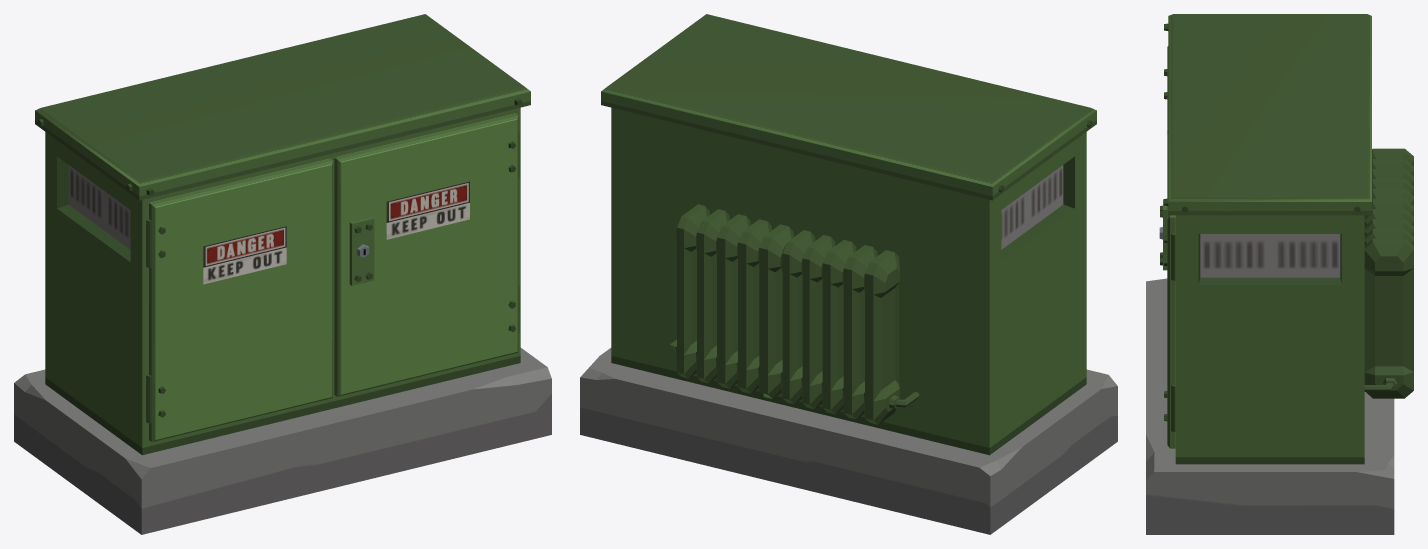
File: SM_Prop_PowerBox_01.fbx
3 views of the same model, side by side, from view 1: azimuth 30°, elevation 25°; view 2: azimuth 150°, elevation 25°; view 3: azimuth 270°, elevation 25° (orthographic). The views are drawn at different scales.
Parts seen in each view (by area): view 1: SM_Prop_Powerbox_01; view 2: SM_Prop_Powerbox_01; view 3: SM_Prop_Powerbox_01.
Part boxes in pixels (bbox=[...]): SM_Prop_Powerbox_01: bbox=[14, 14, 551, 534]; SM_Prop_Powerbox_01: bbox=[580, 14, 1117, 534]; SM_Prop_Powerbox_01: bbox=[1146, 14, 1413, 534].
Size of the model in its own units: 200 by 159 by 116.
